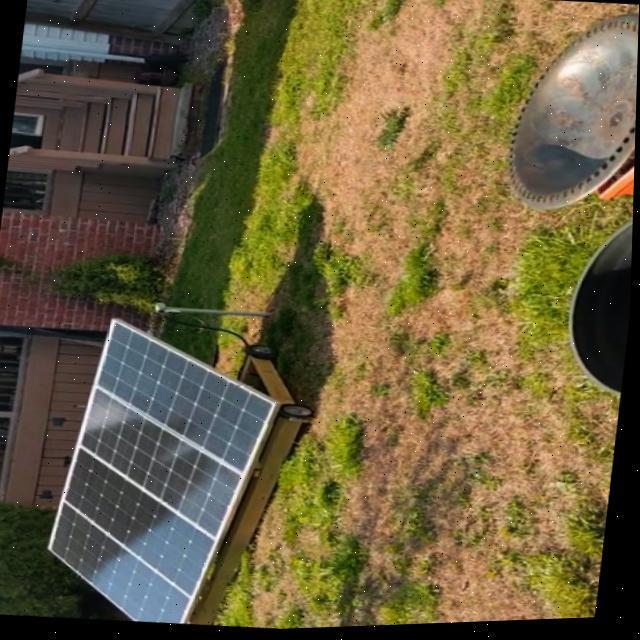Normal Solar Panel: (42, 310, 290, 635)
